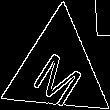M_NE: (27, 36, 88, 104)
